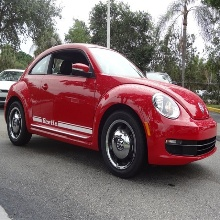no damage: (4, 42, 220, 178)
